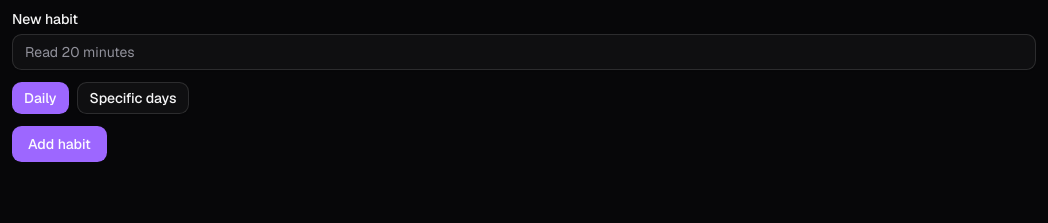
Test: HabitForm › only shows weekday pickers after switching to 'specific days'
Expected: the element named "cadence" is shown, [12, 82, 190, 114]
Click the button "Specific days". click: (133, 98)
box: [76, 82, 190, 114]
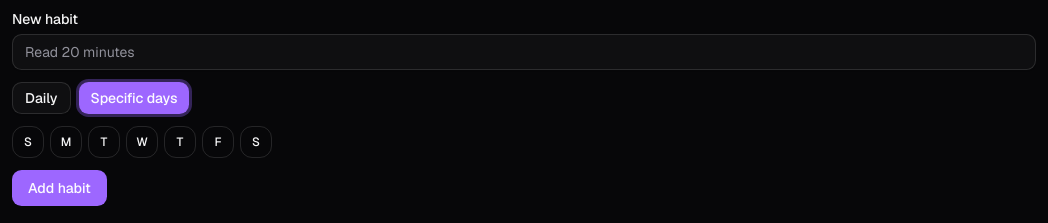
Expected: the checkbox "M" is shown, [50, 126, 82, 158]
